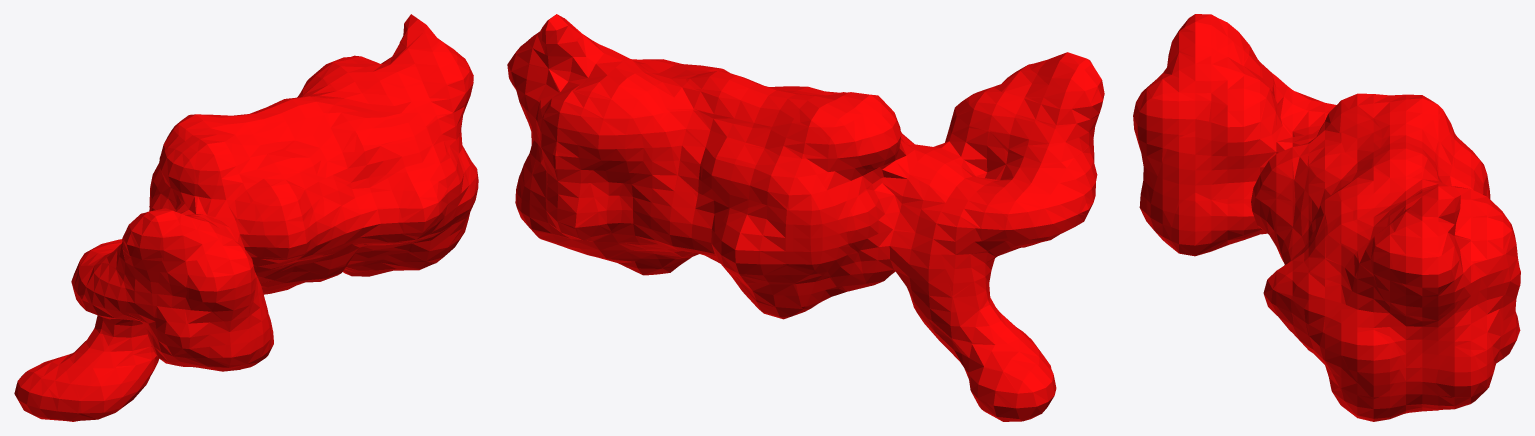
Rendered from purR_coarse.dae.
3 renders of one model, left to right at view 1: azimuth 30°, elevation 25°; view 2: azimuth 150°, elevation 25°; view 3: azimuth 270°, elevation 25°, orthographic. The views are drawn at different scales.
Parts seen in each view (by area): view 1: purR; view 2: purR; view 3: purR.
Boxes of the visible parts, bbox=[...] form: purR: bbox=[14, 14, 478, 421]; purR: bbox=[507, 14, 1104, 421]; purR: bbox=[1133, 14, 1520, 421].
Bounding box in the file's own units: 98.59 × 57.65 × 62.71.
